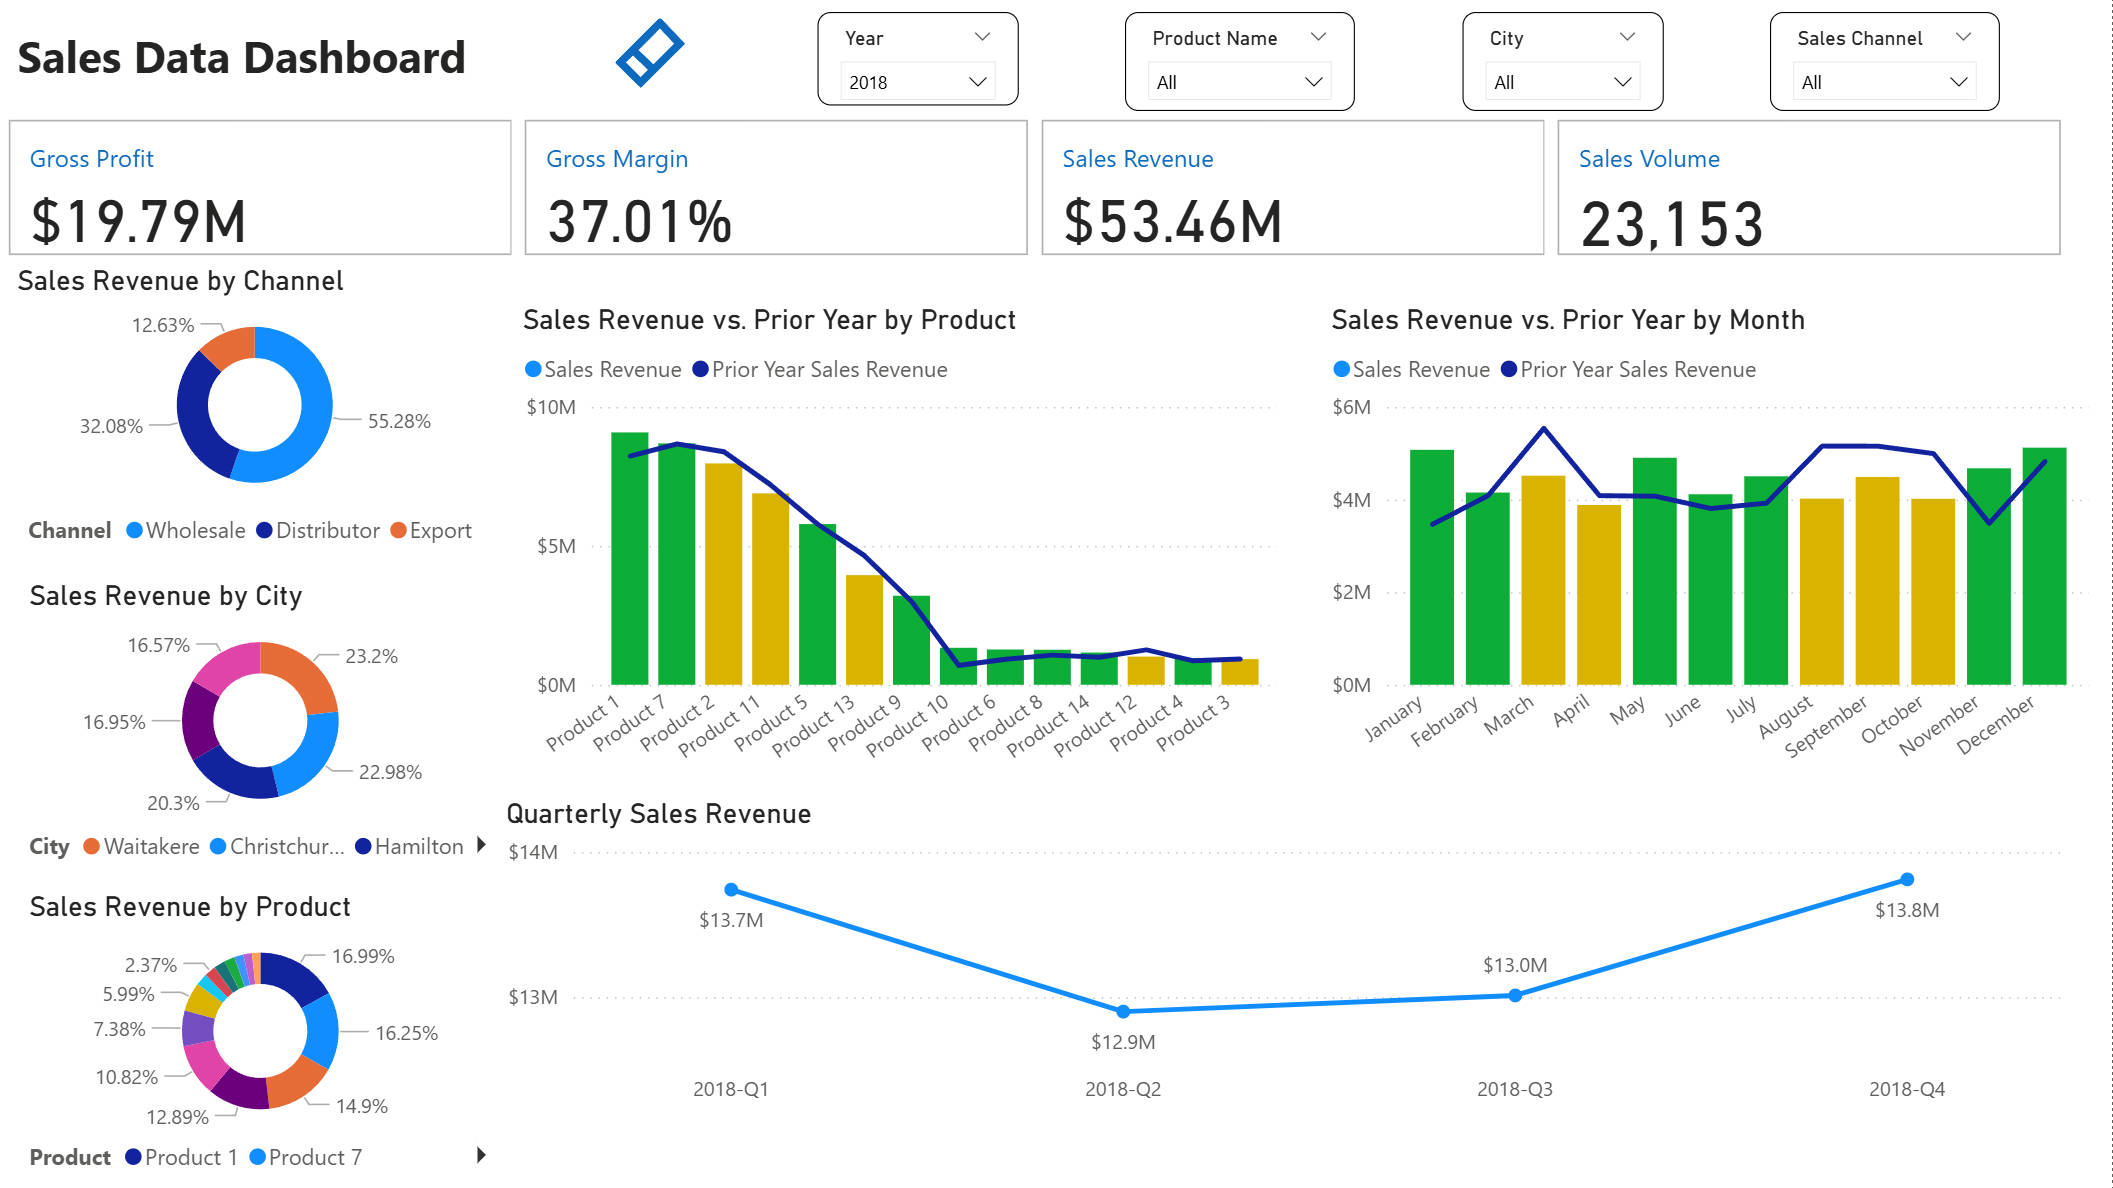

This screenshot's page, from the dashboard's own definition file:
{"tool":"powerbi","page":{"name":"Page 1","canvas":[1280,720],"ordinal":0},"visuals":[{"type":"slicer","fields":{"Values":["dDate.Year"]},"box":[495.5,7.3,121.8,56.4],"z":0},{"type":"slicer","fields":{"Values":["Products_Data.产品名称"]},"box":[682.1,7.3,139.1,60],"z":1000},{"type":"slicer","fields":{"Values":["Regions_Table.城市"]},"box":[886.1,7.3,121.8,60],"z":2000},{"type":"slicer","fields":{"Values":["Sales_Data.销售渠道"]},"box":[1072.7,7.3,139.1,60],"z":3000},{"type":"cardVisual","fields":{"Data":["DAX Table.Gross Profit","DAX Table.Gross Margin","DAX Table.Sales Revenue","DAX Table.Sales Volume"]},"box":[0,77.7,1271.5,93.1],"z":4000},{"type":"donutChart","title":"Sales Revenue by Channel","fields":{"Category":["Sales_Data.销售渠道"],"Y":["DAX Table.Sales Revenue"]},"box":[7.7,177.7,297.7,170.8],"z":5000},{"type":"donutChart","title":"Sales Revenue by Product ","fields":{"Y":["DAX Table.Sales Revenue"],"Category":["Products_Data.产品名称"]},"box":[7.7,539.2,297.7,173.1],"z":6000},{"type":"donutChart","fields":{"Y":["DAX Table.Sales Revenue"],"Category":["Regions_Table.城市"]},"box":[7.7,356.9,297.7,173.8],"z":7000},{"type":"lineChart","title":"Quarterly Sales Revenue","fields":{"Category":["dDate.Year-Quarter"],"Y":["DAX Table.Sales Revenue"]},"box":[311.5,497.7,960,209.2],"z":8000},{"type":"lineClusteredColumnComboChart","title":"Sales Revenue vs. Prior Year by Product","fields":{"Category":["Products_Data.产品名称"],"Y":["DAX Table.Sales Revenue"],"Y2":["DAX Table.Prior Year Sales Revenue"]},"box":[311.5,183.8,470,307.7],"z":9000},{"type":"lineClusteredColumnComboChart","title":"Sales Revenue vs. Prior Year by Month","fields":{"Y":["DAX Table.Sales Revenue"],"Y2":["DAX Table.Prior Year Sales Revenue"],"Category":["dDate.Month"]},"box":[788.5,183.8,483.1,307.7],"z":10000},{"type":"actionButton","box":[427.7,12.3,48.5,46.2],"z":11000},{"type":"textbox","box":[65.4,15.4,296.9,62.3],"z":12000}]}

Visuals, with their boxes in screenshot pixels (x1, y1, x2, y2), scaled from the page's 1280x720 canvas onto the 2113x1188 screenshot:
slicer - dDate.Year: {"x1": 818, "y1": 12, "x2": 1019, "y2": 105}
slicer - Products_Data.产品名称: {"x1": 1126, "y1": 12, "x2": 1356, "y2": 111}
slicer - Regions_Table.城市: {"x1": 1463, "y1": 12, "x2": 1664, "y2": 111}
slicer - Sales_Data.销售渠道: {"x1": 1771, "y1": 12, "x2": 2000, "y2": 111}
cardVisual - DAX Table.Gross Profit x DAX Table.Gross Margin: {"x1": 0, "y1": 128, "x2": 2099, "y2": 282}
"Sales Revenue by Channel" donutChart: {"x1": 13, "y1": 293, "x2": 504, "y2": 575}
"Sales Revenue by Product " donutChart: {"x1": 13, "y1": 890, "x2": 504, "y2": 1175}
donutChart - DAX Table.Sales Revenue x Regions_Table.城市: {"x1": 13, "y1": 589, "x2": 504, "y2": 876}
"Quarterly Sales Revenue" lineChart: {"x1": 514, "y1": 821, "x2": 2099, "y2": 1166}
"Sales Revenue vs. Prior Year by Product" lineClusteredColumnComboChart: {"x1": 514, "y1": 303, "x2": 1290, "y2": 811}
"Sales Revenue vs. Prior Year by Month" lineClusteredColumnComboChart: {"x1": 1302, "y1": 303, "x2": 2099, "y2": 811}
actionButton: {"x1": 706, "y1": 20, "x2": 786, "y2": 97}
textbox: {"x1": 108, "y1": 25, "x2": 598, "y2": 128}
